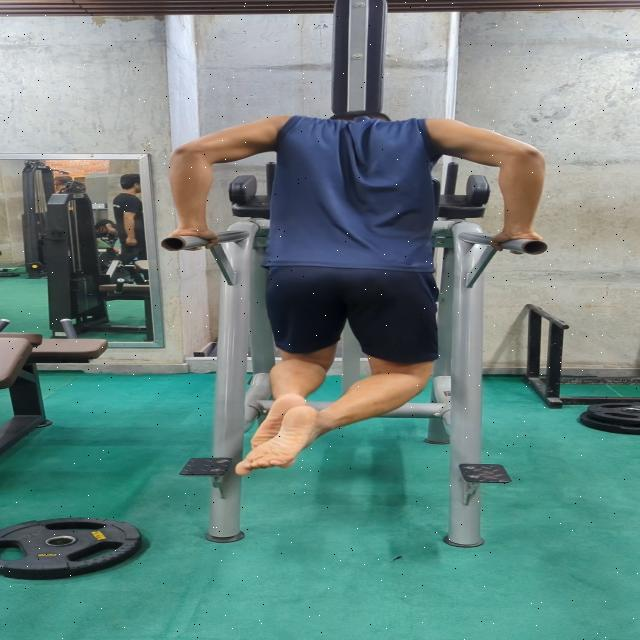Normal_Dips: (154, 105, 557, 475)
